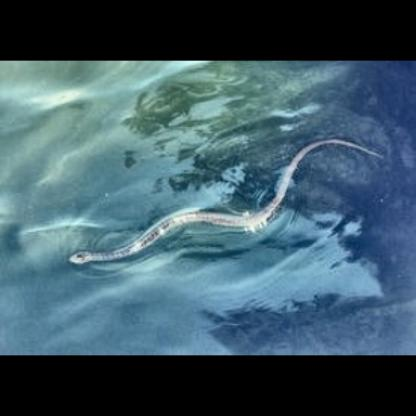Snake: (64, 204, 278, 268)
